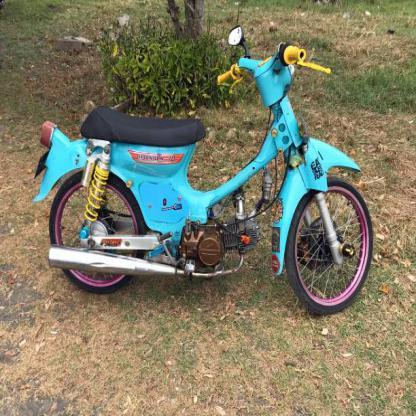Motorcycle: (27, 12, 378, 319)
